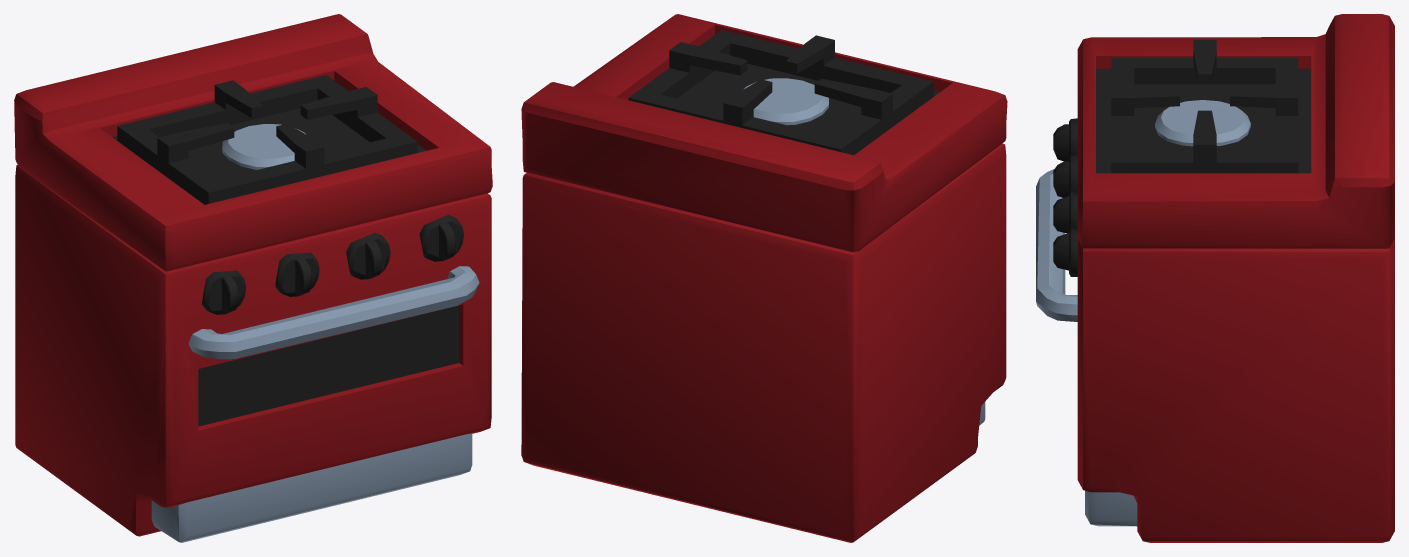
File: cc0-oven-lod1.glb
The picture shows the model from 3 angles, left to right: view 1: azimuth 30°, elevation 25°; view 2: azimuth 150°, elevation 25°; view 3: azimuth 270°, elevation 25°; orthographic projection. The views are drawn at different scales.
Parts seen in each view (by area): view 1: part_0; view 2: part_0; view 3: part_0.
Part boxes in pixels (x1=…): part_0: x1=14, y1=14, x2=492, y2=542; part_0: x1=521, y1=14, x2=1007, y2=542; part_0: x1=1036, y1=14, x2=1394, y2=542.
Size of the model in its own units: 2.14 by 2.23 by 1.94.
1 material, 1 textured.
